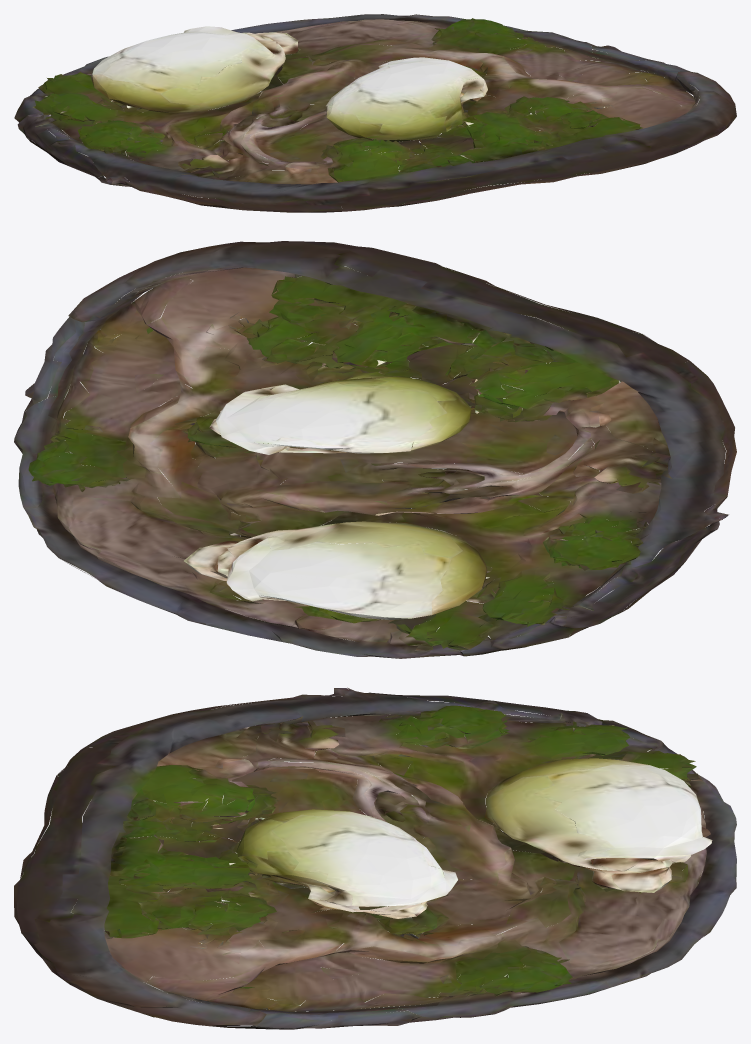
The model's file is wt-bog-bone-mire.glb.
3 views of the same model, one above another, from view 1: azimuth 30°, elevation 25°; view 2: azimuth 150°, elevation 25°; view 3: azimuth 270°, elevation 25° (orthographic). The views are drawn at different scales.
Visible parts, largest first — view 1: tmp_royq0ga.ply; view 2: tmp_royq0ga.ply; view 3: tmp_royq0ga.ply.
Part boxes in pixels (left/top/right/bottom): tmp_royq0ga.ply: left=14, top=14, right=736, bottom=212; tmp_royq0ga.ply: left=14, top=241, right=736, bottom=658; tmp_royq0ga.ply: left=14, top=687, right=736, bottom=1029.
Size of the model in its own units: 5 by 0.4509 by 4.48.
Materials: 1 (1 with a texture image).
